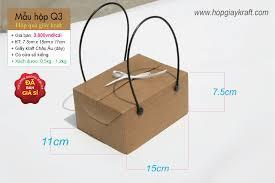box: (72, 54, 189, 156)
